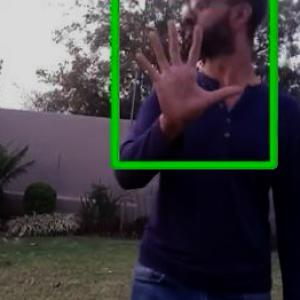follow_hand: (129, 15, 243, 129)
